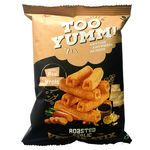plastic: (24, 3, 129, 143)
tooyumm: (51, 16, 117, 51)
wrapper: (21, 4, 131, 142)
